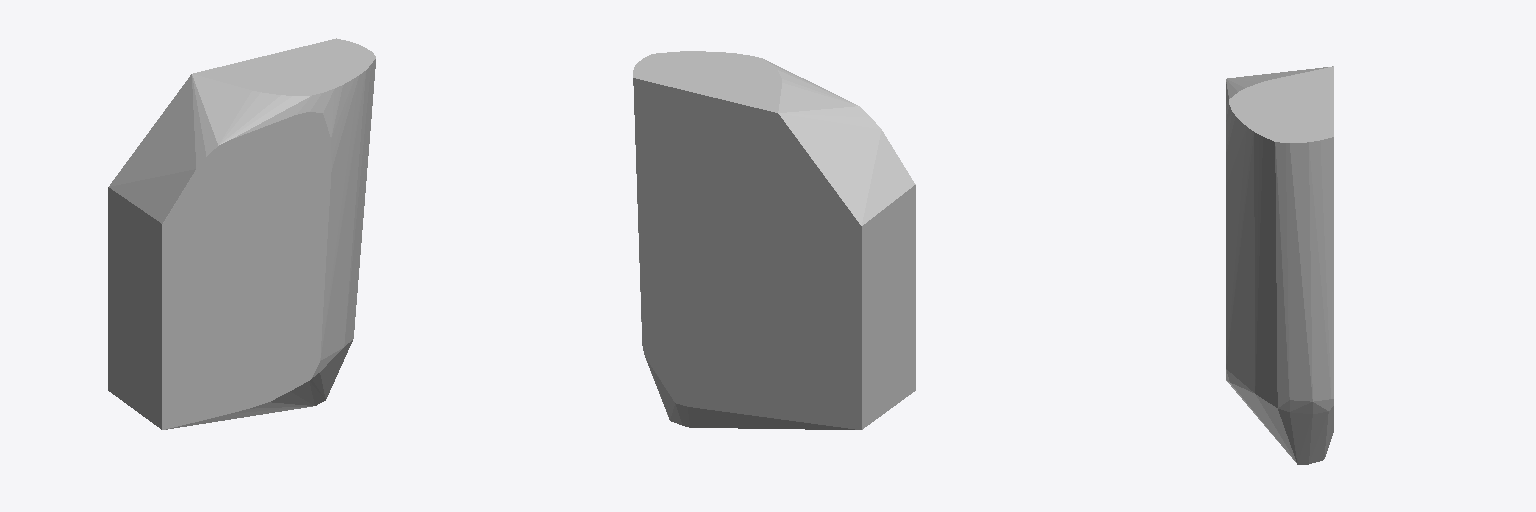
Rendered from sofa_collision_15.obj.
3 renders of one model, left to right at view 1: azimuth 30°, elevation 25°; view 2: azimuth 150°, elevation 25°; view 3: azimuth 270°, elevation 25°, orthographic.
Bounding box in the file's own units: 113 × 153 × 43.72.